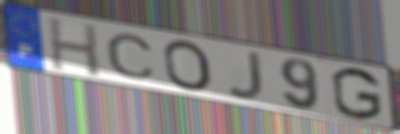9: (279, 56, 325, 112)
C: (103, 32, 159, 80)
G: (329, 66, 385, 122)
H: (45, 15, 103, 80)
J: (224, 50, 266, 102)
O: (161, 38, 216, 94)
